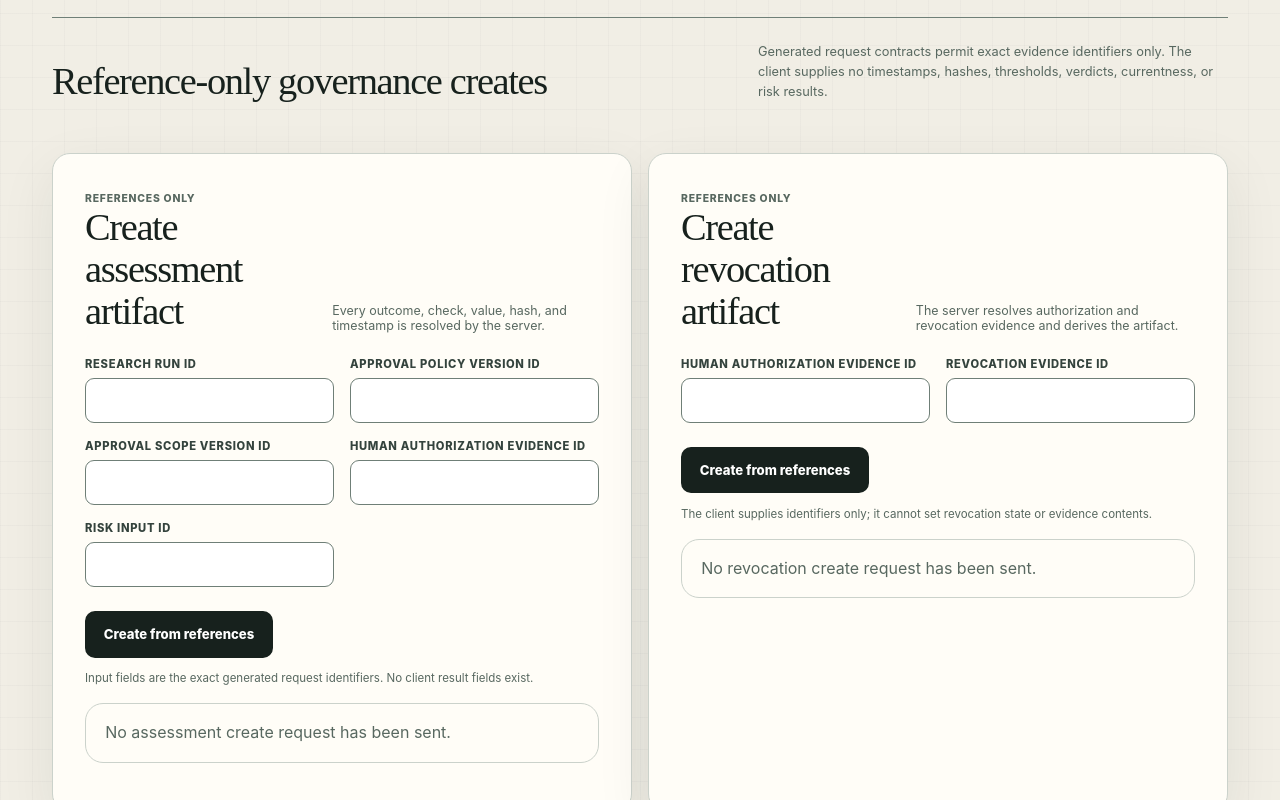
risk and compliance workspace › announces unavailable revocation-create failures without inventing a result
(page scrolled)
Type "50000000-0000-4000-8000-000000000002" into the field labelled "Human authorization evidence ID" below "Create revocation artifact" at (806, 400), box [681, 378, 930, 423]
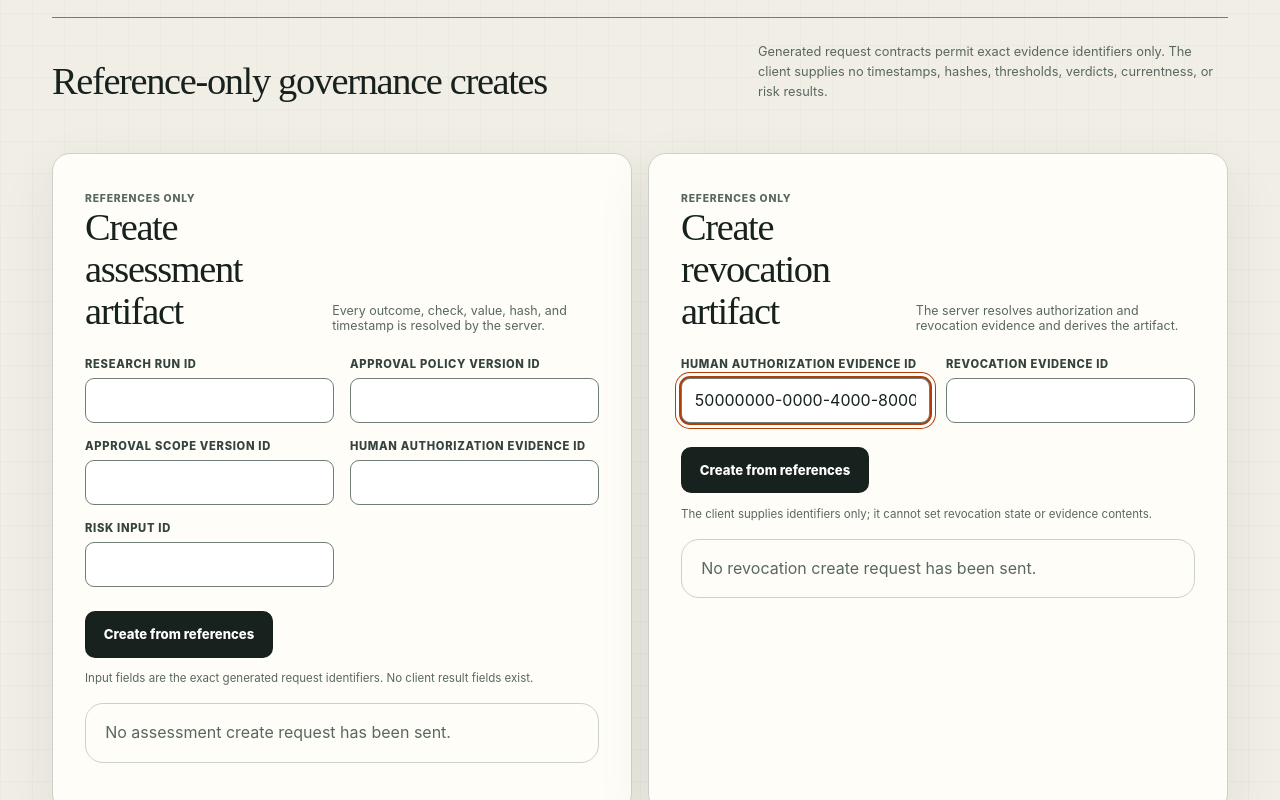
Type "80000000-0000-4000-8000-000000000001" into the field labelled "Revocation evidence ID" at (1070, 400), box [946, 378, 1195, 423]
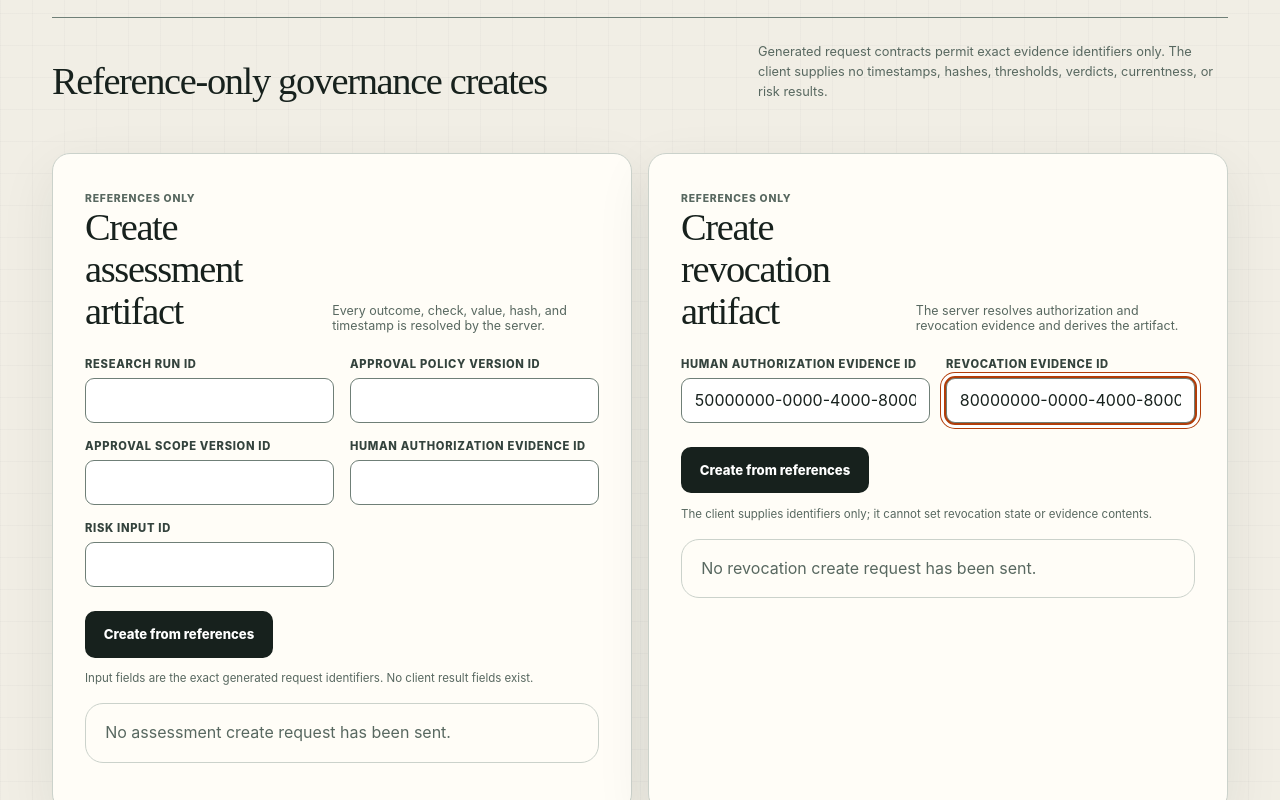
Click the button "Create from references" below "Create revocation artifact" at (775, 470), box [681, 447, 869, 493]
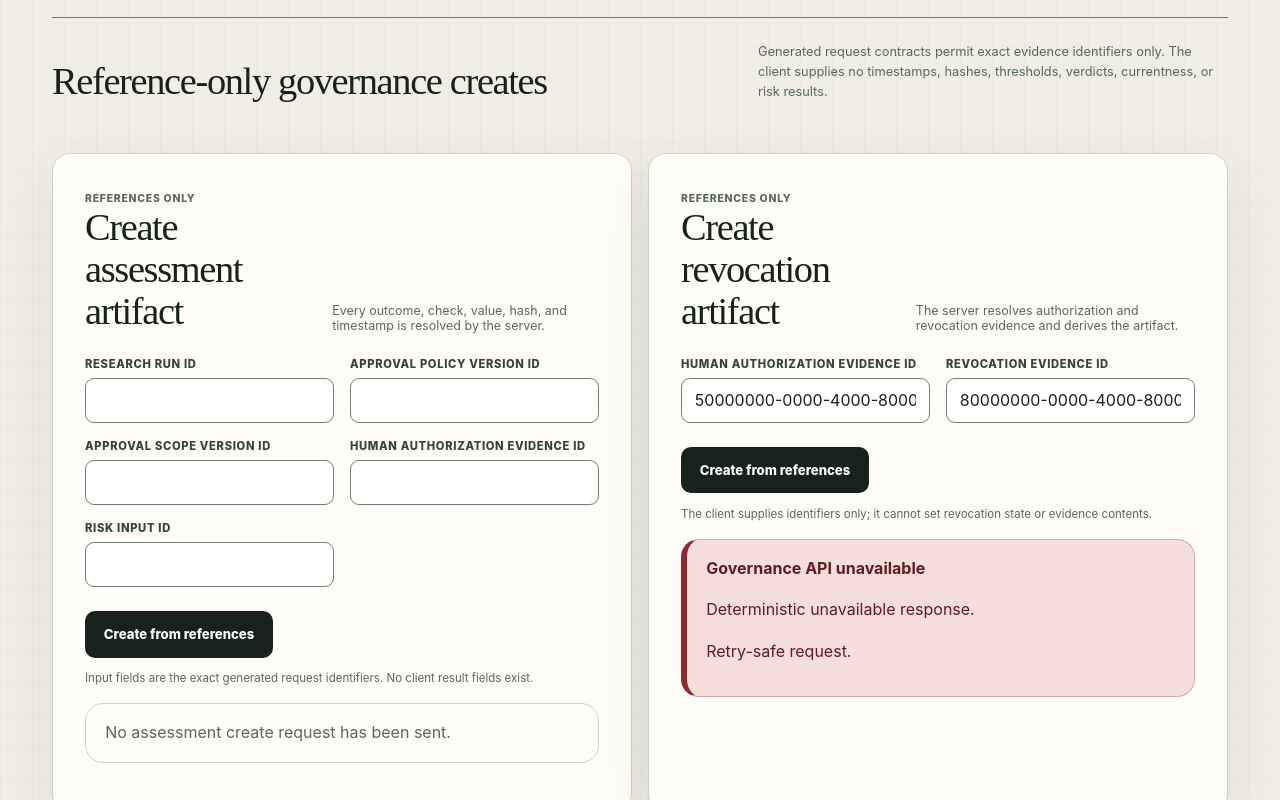
Expected: the message that starts with "Governance API unavailable" does not show "Artifact SHA-256", [681, 539, 1195, 697]
Expected: the message that starts with "Governance API unavailable" is shown, [706, 558, 925, 578]
